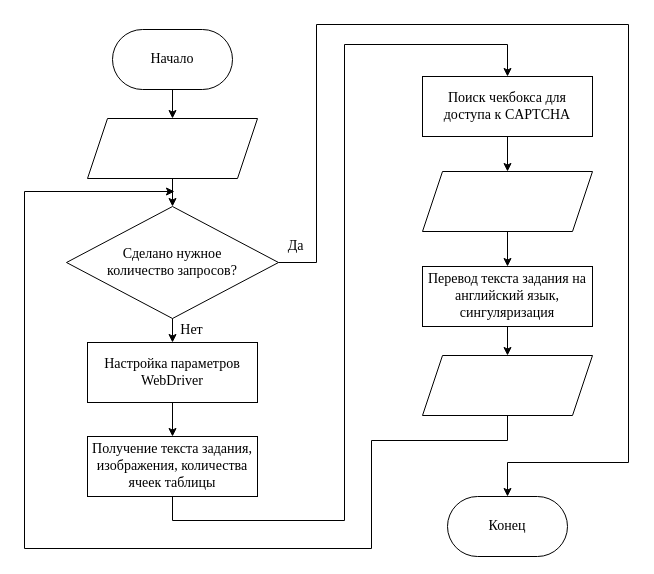
The diagram is 654 pixels wide and 574 high, and some of its shapes have lost their labels. Each missing label, with the centre of its shape:
"Ввод URL целевого сайта" goes at point 172,148.
"Сохоранение изображения CAPTCHA" goes at point 507,201.
"Сохранение задания, количества ячеек таблицы в csv-файл" goes at point 507,385.
